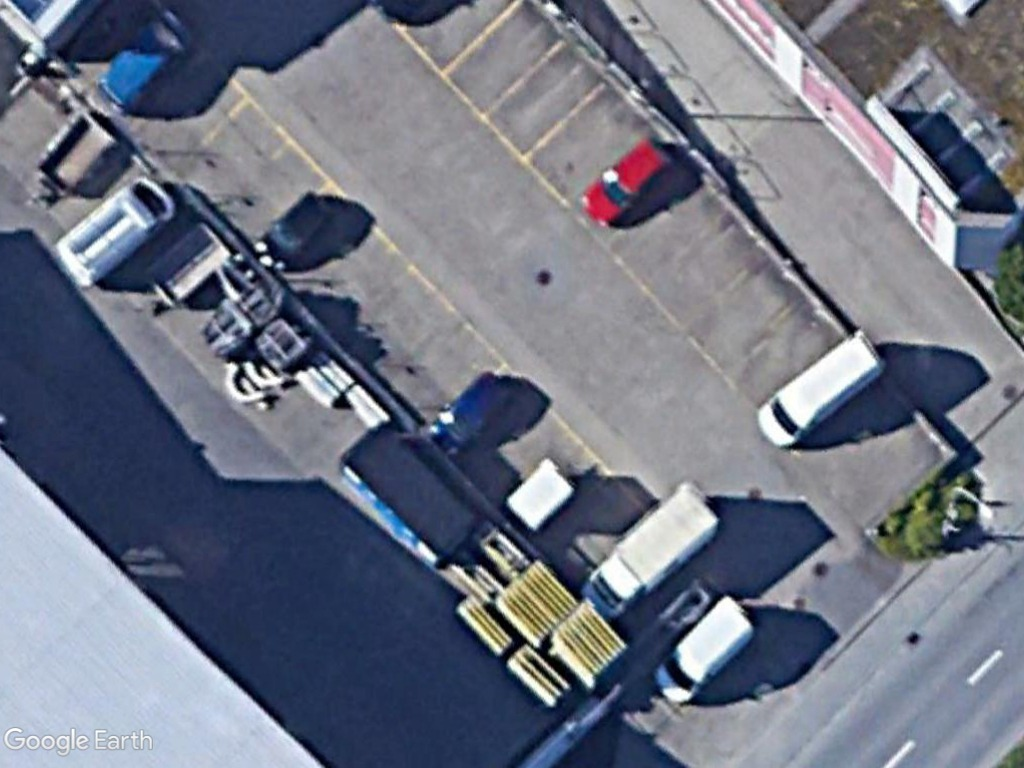car: (579, 135, 672, 231)
truck: (576, 486, 727, 615)
van: (749, 332, 885, 457), (49, 174, 174, 290), (650, 596, 758, 706)
